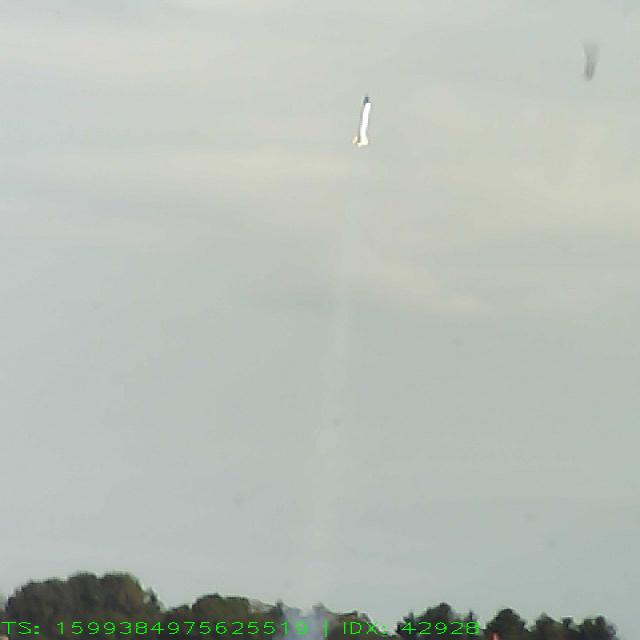Rocket: (351, 92, 373, 149)
